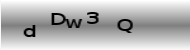3: (85, 11, 100, 24)
D: (49, 12, 66, 27)
Q: (116, 18, 133, 34)
d: (23, 24, 37, 39)
w: (65, 18, 83, 29)
